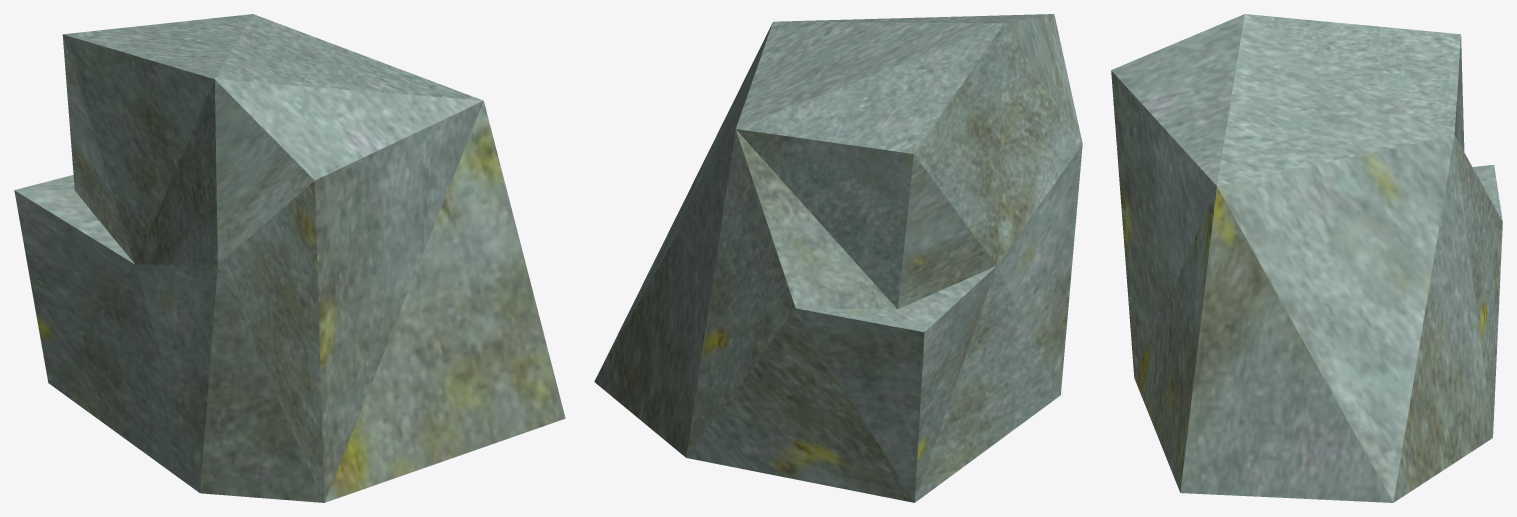
File: Small_Rock_T.fbx
3 views of the same model, side by side, from view 1: azimuth 30°, elevation 25°; view 2: azimuth 150°, elevation 25°; view 3: azimuth 270°, elevation 25° (orthographic). The views are drawn at different scales.
Visible parts, largest first — view 1: rock_e; view 2: rock_e; view 3: rock_e.
Boxes of the visible parts, x1,y1,x2,y2 form: rock_e: [14, 14, 565, 502]; rock_e: [594, 14, 1082, 502]; rock_e: [1111, 14, 1502, 502].
Bounding box in the file's own units: 1.33 × 1.25 × 1.29.
Materials: 1 (1 with a texture image).
